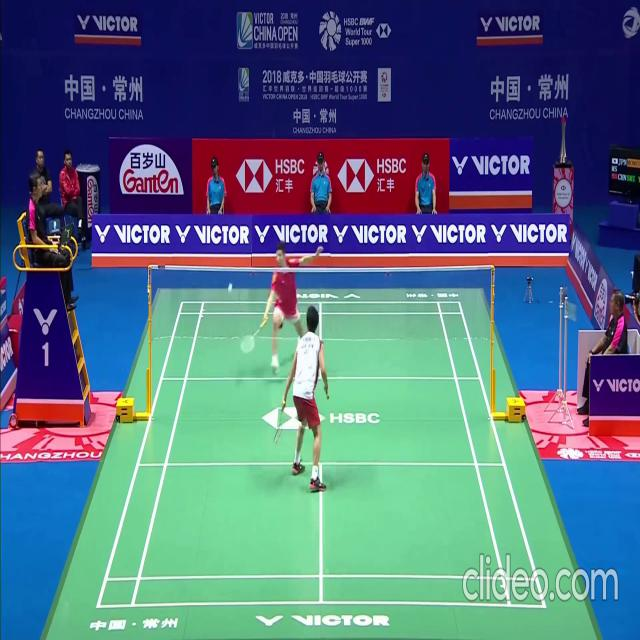Shuttlecock: (228, 285, 233, 292)
